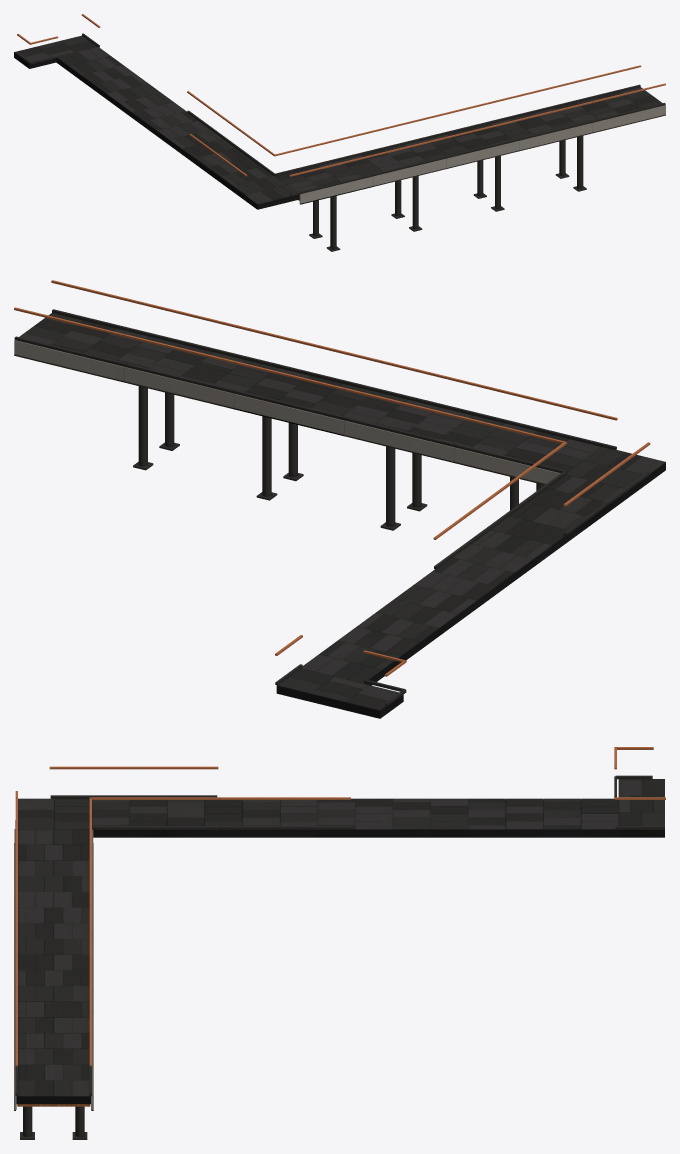
File: walkway_deck.glb
The picture shows the model from 3 angles, top to bottom: view 1: azimuth 30°, elevation 25°; view 2: azimuth 150°, elevation 25°; view 3: azimuth 270°, elevation 25°; orthographic projection. The views are drawn at different scales.
Visible parts, largest first — view 1: walkway_deck; view 2: walkway_deck; view 3: walkway_deck.
Boxes of the visible parts, x1=… form: walkway_deck: x1=14, y1=14, x2=665, y2=251; walkway_deck: x1=14, y1=280, x2=665, y2=718; walkway_deck: x1=14, y1=747, x2=665, y2=1139.
Size of the model in its own units: 24.38 by 4.7 by 21.12.
1 material, 1 textured.
